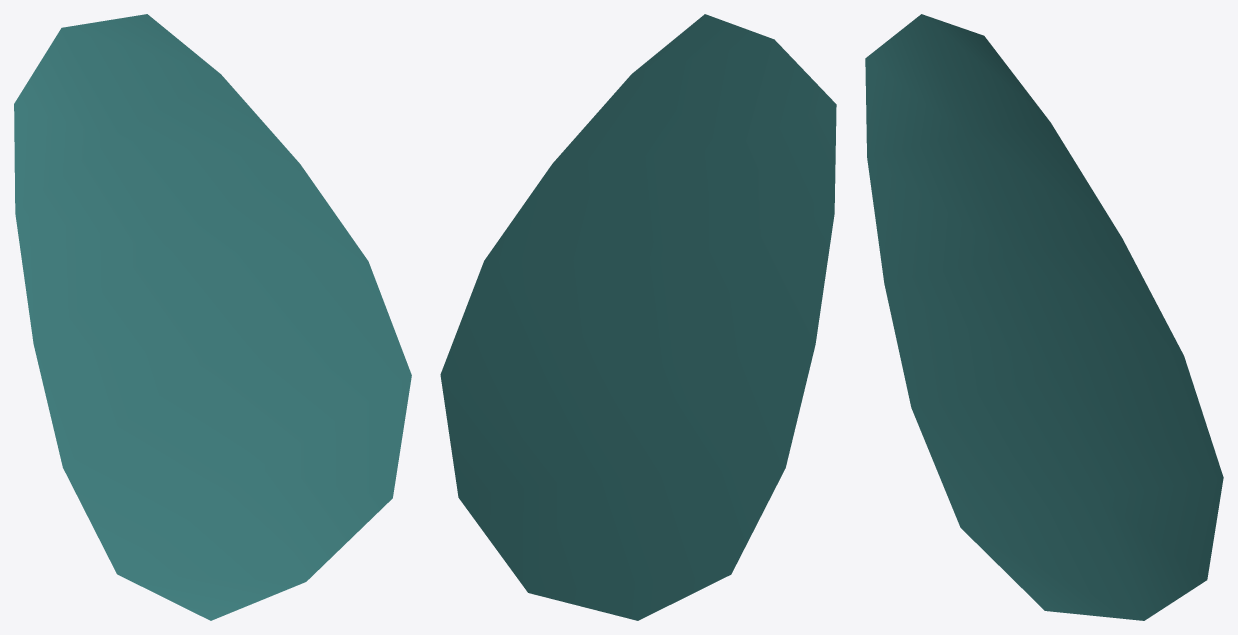
File: budgie_feather_flight_tertiary_054.obj
3 renders of one model, left to right at view 1: azimuth 30°, elevation 25°; view 2: azimuth 150°, elevation 25°; view 3: azimuth 330°, elevation 25°, orthographic. The views are drawn at different scales.
Parts seen in each view (by area): view 1: feather_flight_tertiary_054; view 2: feather_flight_tertiary_054; view 3: feather_flight_tertiary_054.
Boxes of the visible parts, x1,y1,x2,y2 form: feather_flight_tertiary_054: (14, 14, 411, 620); feather_flight_tertiary_054: (440, 14, 836, 620); feather_flight_tertiary_054: (865, 14, 1223, 620).
Bounding box in the file's own units: 0.00949 × 0.0142 × 0.000389.
